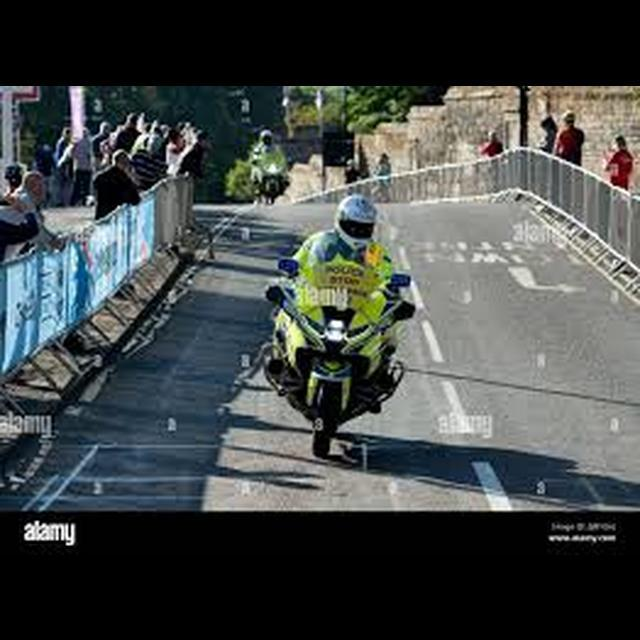motorcycle: (265, 257, 421, 462)
